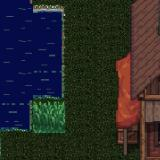Interaction: (54, 17, 74, 109), (24, 0, 74, 17), (22, 109, 41, 139), (22, 95, 54, 109), (0, 123, 22, 139)
Obstacle: (102, 5, 160, 158)
Slow: (0, 0, 28, 128), (28, 14, 59, 96), (33, 100, 66, 133)
